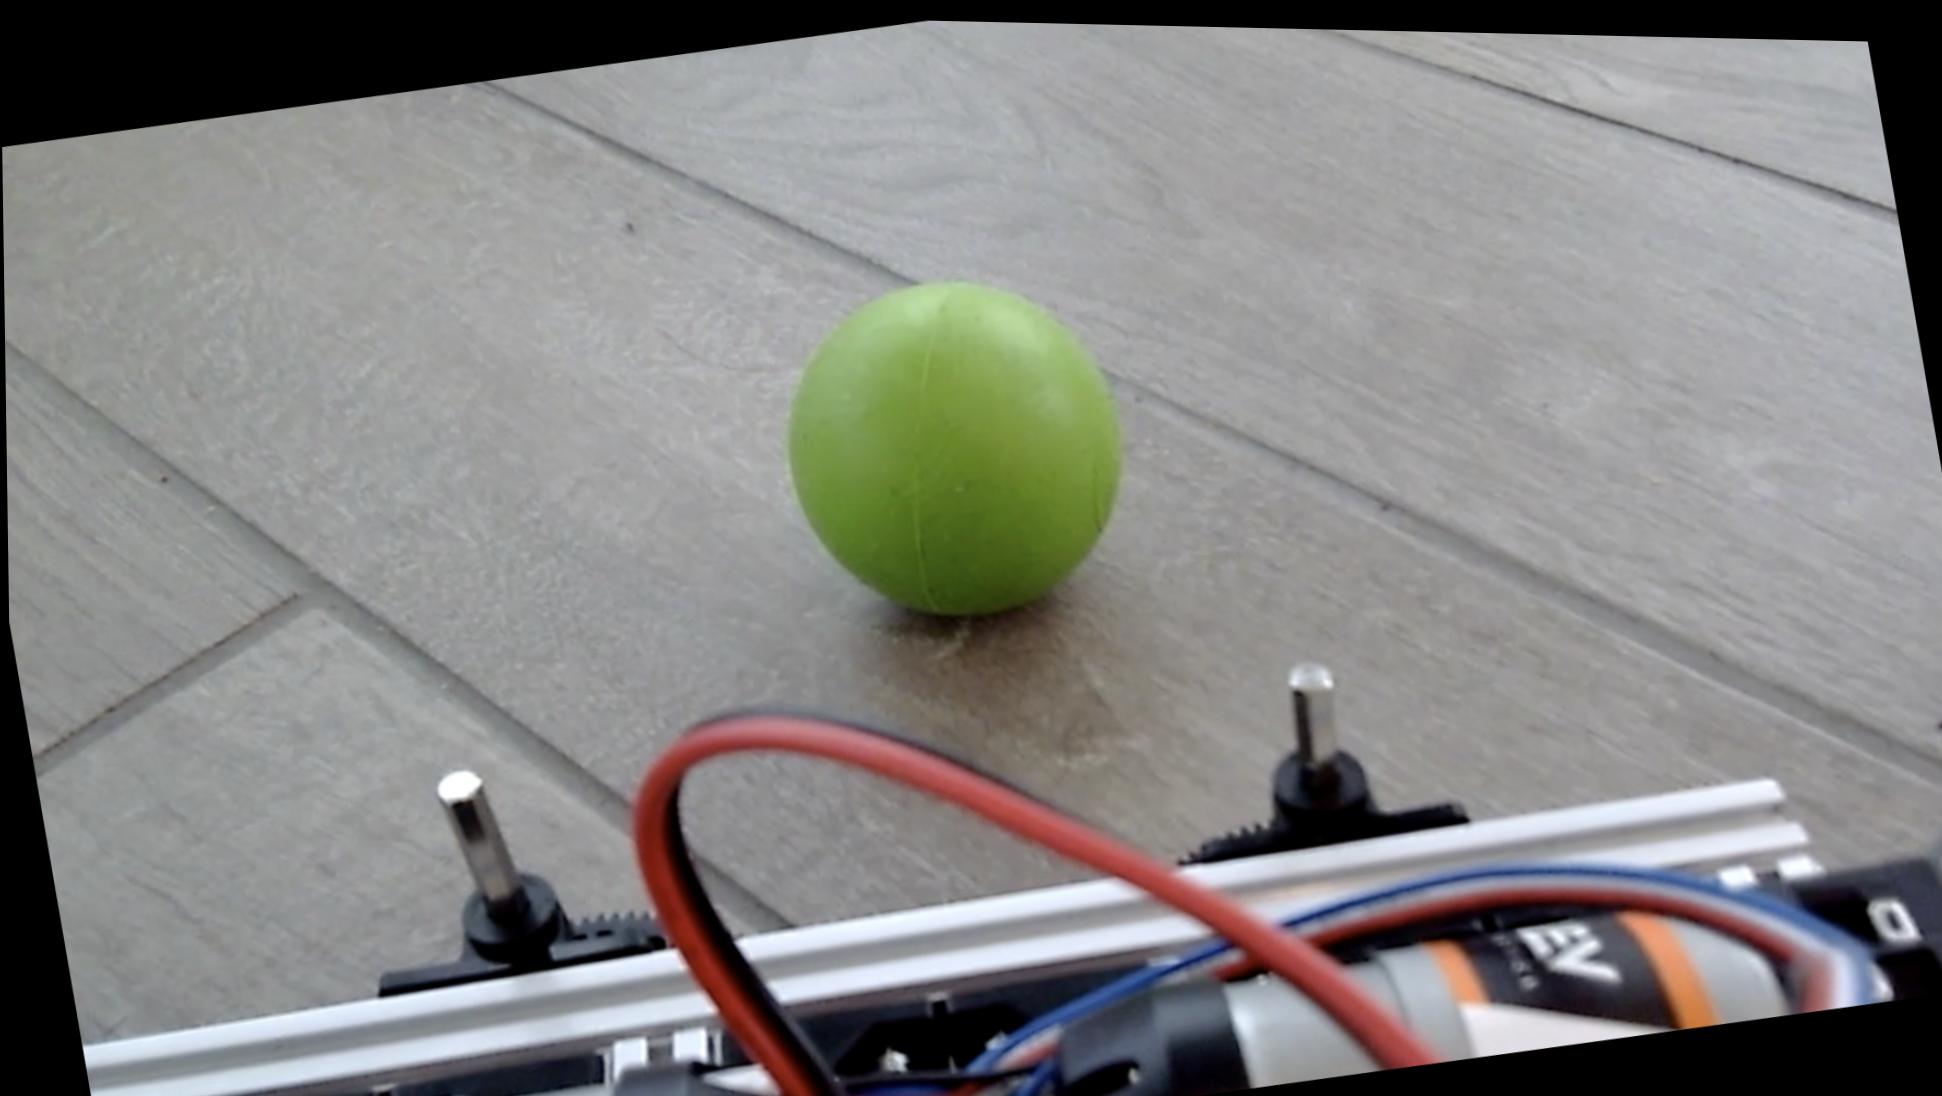greenball: (756, 244, 1150, 643)
